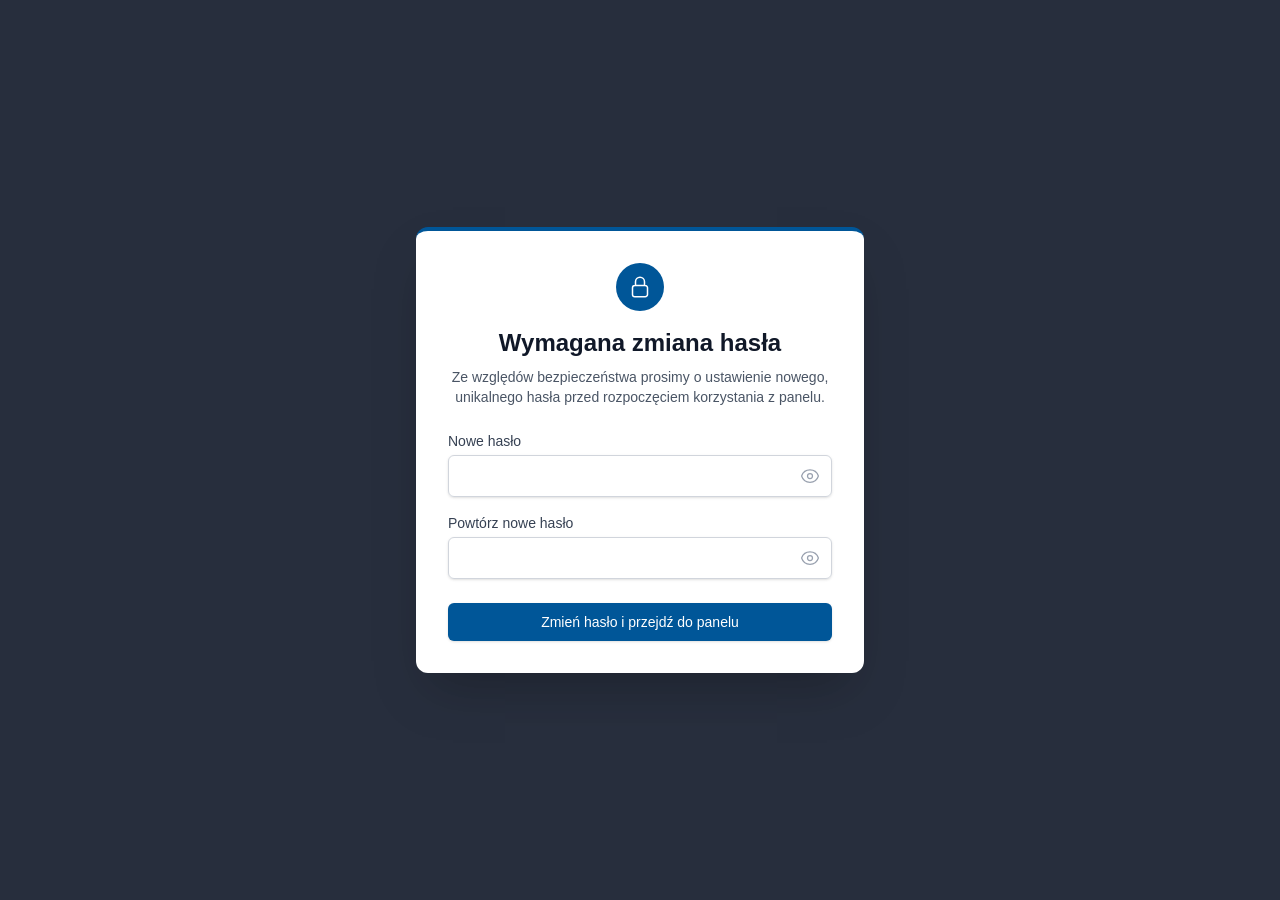
Test: ForceChangePasswordModal › wyświetla błąd z API gdy zmiana się nie powiedzie i nie wywołuje update()
Type "NoweHaslo1!" into the 1st password field at (640, 476), box [448,455,832,497]
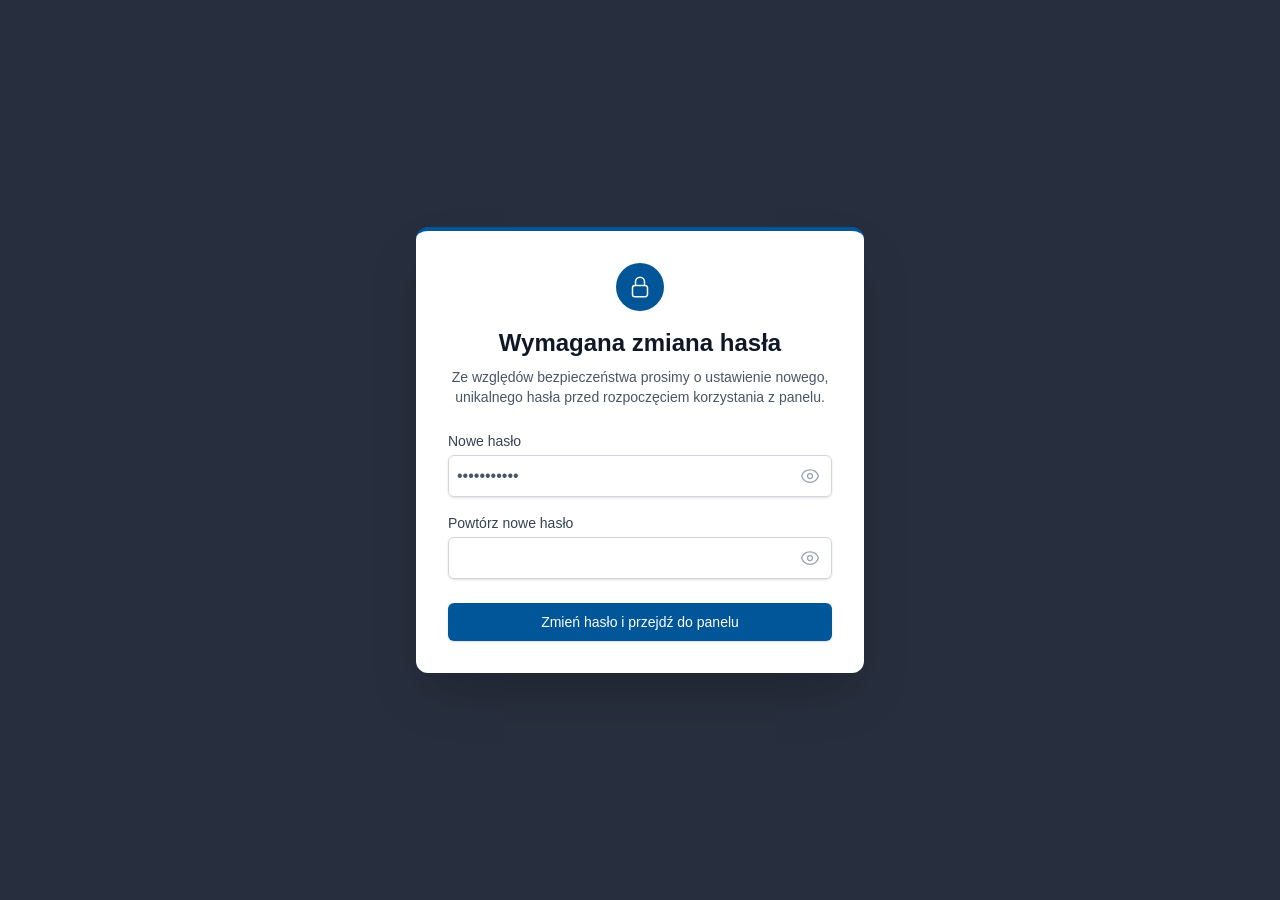
Type "NoweHaslo1!" into the password field below "Powtórz nowe hasło" at (640, 558), box [448,537,832,579]
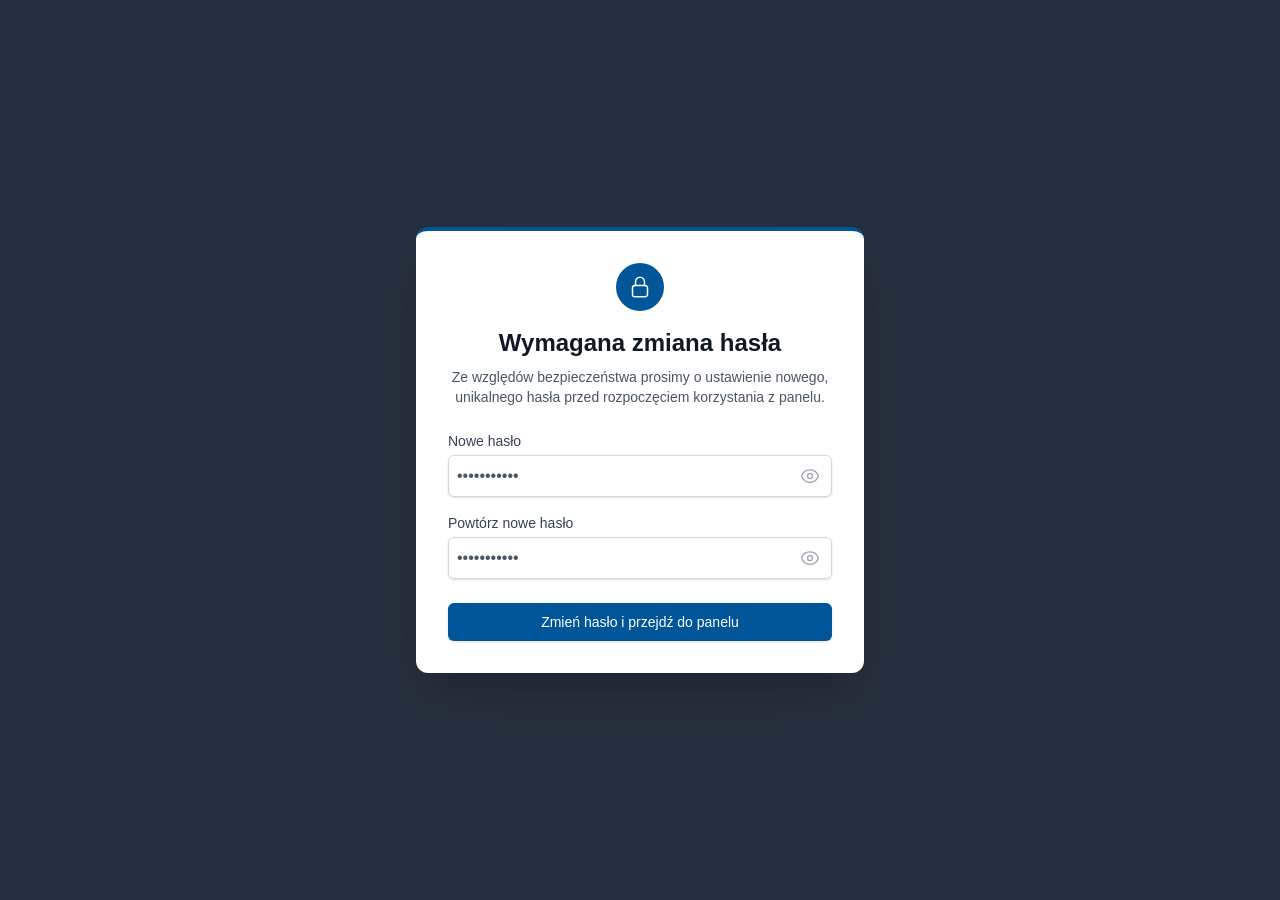
Click the button "Zmień hasło i przejdź do panelu" at (640, 622), box [448,603,832,641]
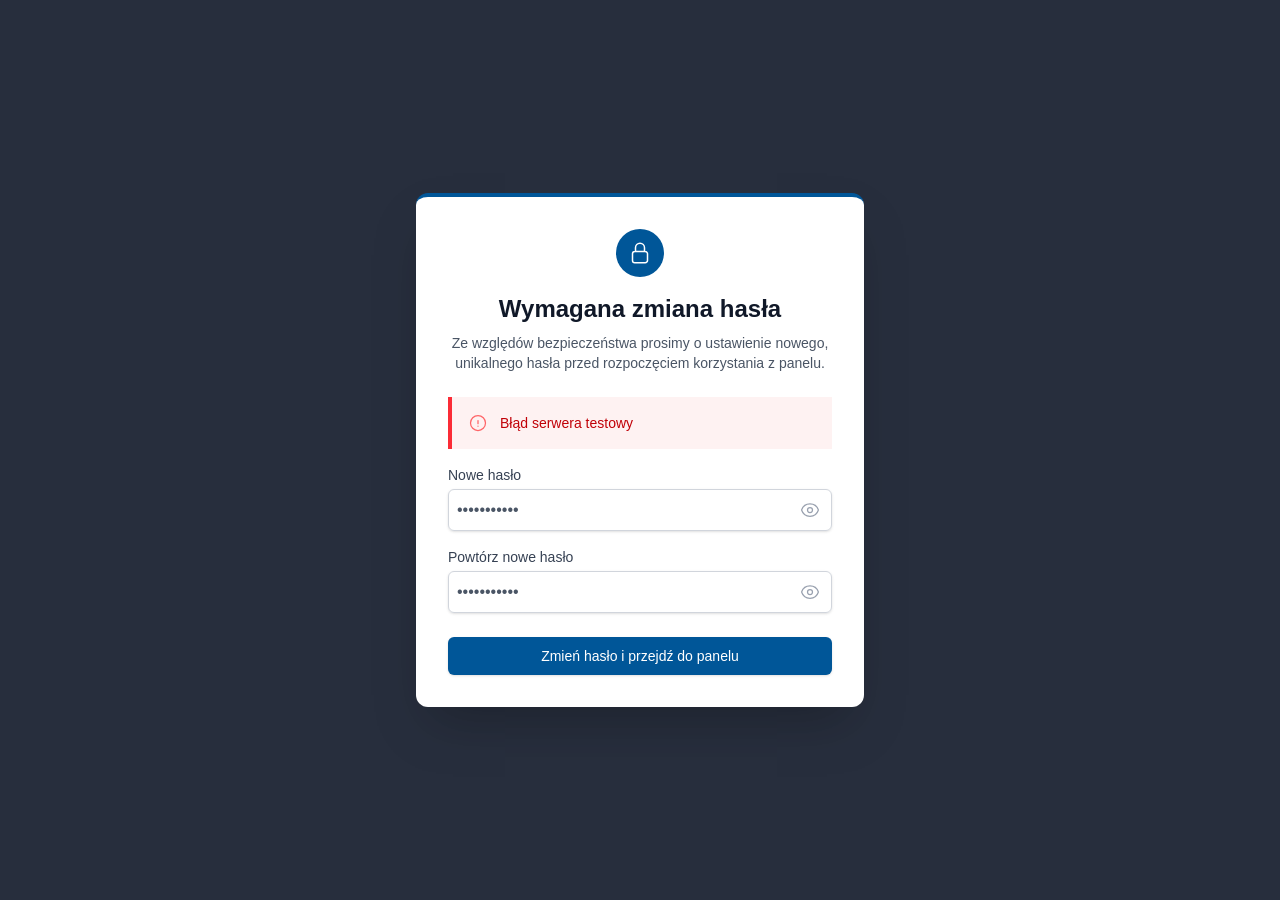
expect the text "Błąd serwera testowy" is shown: met, box [500,413,633,433]
